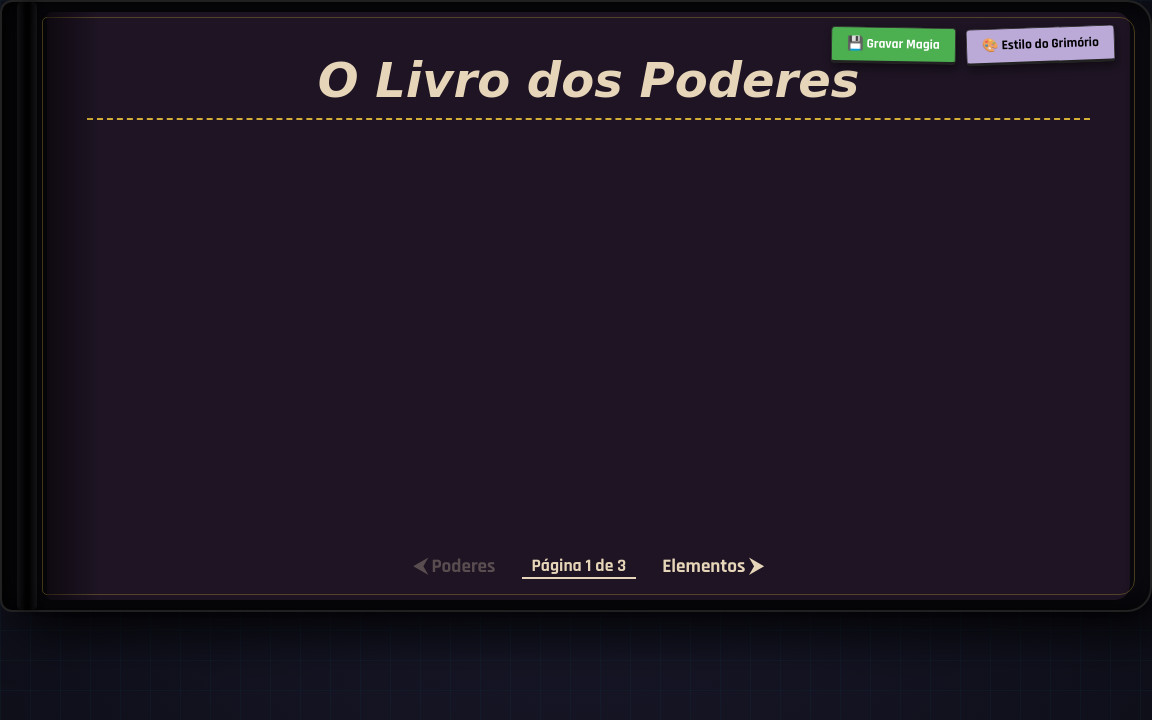
Grimório — página 3 (Estados, Afinidades & Reduções) › vendo o Grimório de outro personagem, não edita a própria ficha por engano
Click the button "Elementos ⮞" at (713, 566), box [656,553,770,580]
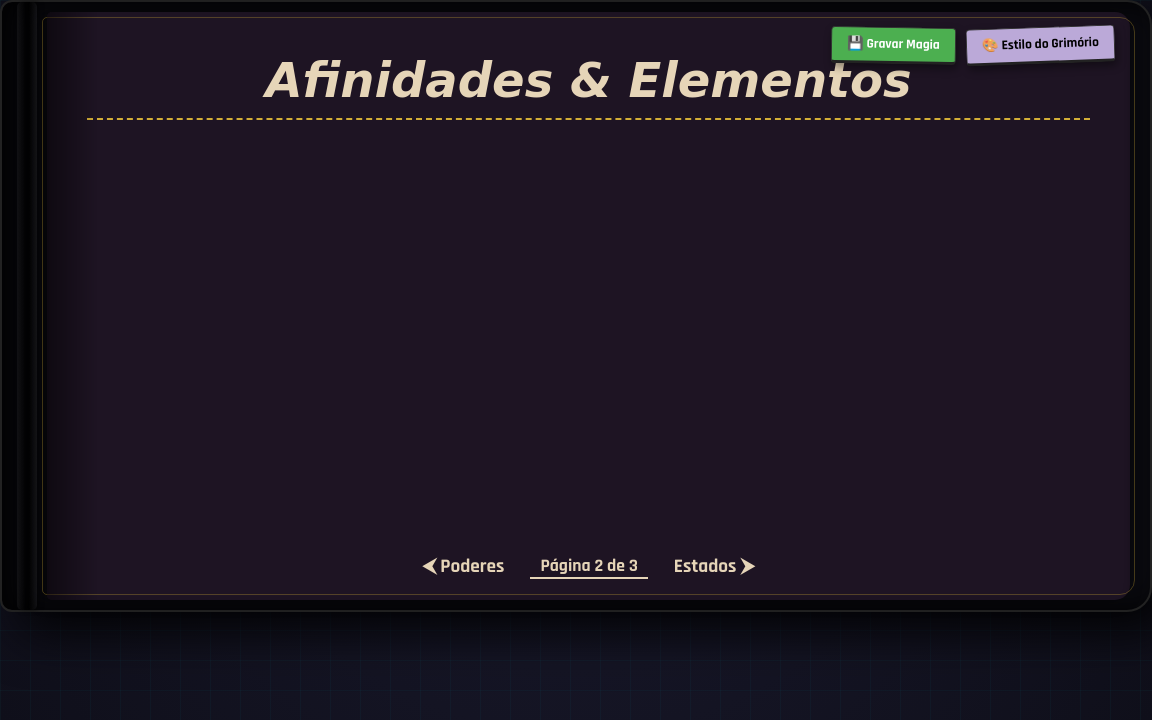
Click the button "Estados ⮞" at (714, 566), box [668,553,761,580]
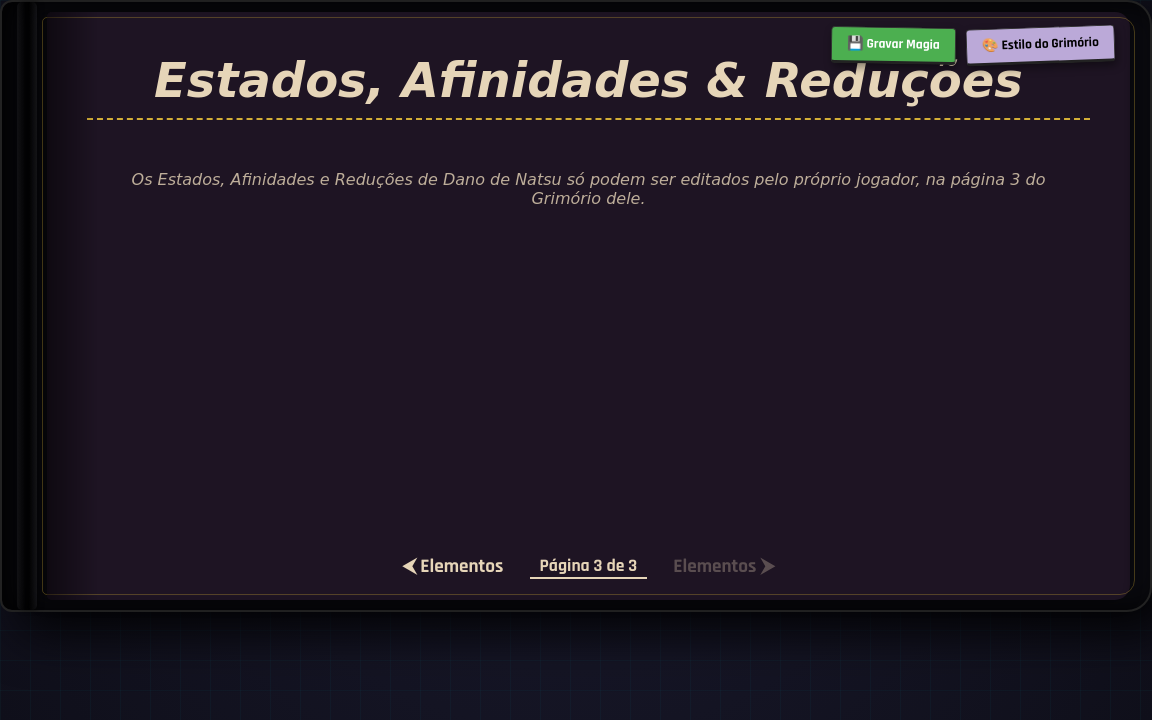
Now the text "só podem ser editados pelo próprio jogador" is shown, box [532,170,1046,208]
